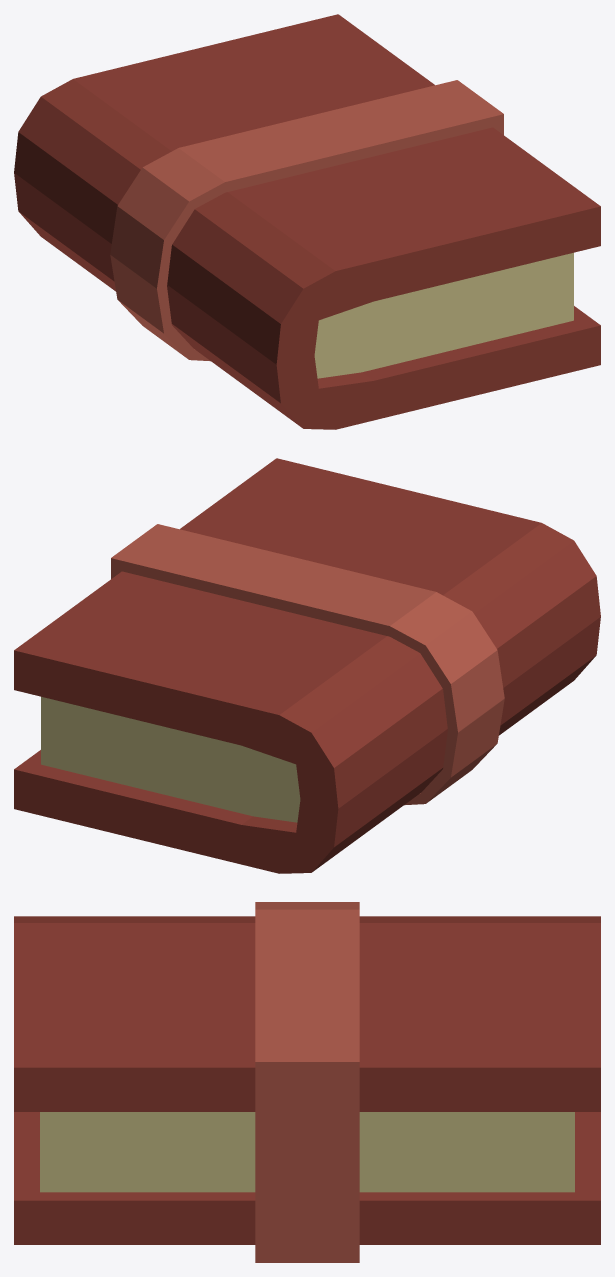
The model's file is Book_5_Red.fbx.
3 views of the same model, one above another, from view 1: azimuth 30°, elevation 25°; view 2: azimuth 150°, elevation 25°; view 3: azimuth 270°, elevation 25° (orthographic). The views are drawn at different scales.
Visible parts, largest first — view 1: Book_5_Red_Part_1, Book_5_Red_Part_3, Book_5_Red_Part_2; view 2: Book_5_Red_Part_1, Book_5_Red_Part_3, Book_5_Red_Part_2; view 3: Book_5_Red_Part_1, Book_5_Red_Part_3, Book_5_Red_Part_2.
Part boxes in pixels (x1,y1,x2,y2): Book_5_Red_Part_1: [14, 14, 600, 429]; Book_5_Red_Part_3: [110, 80, 503, 361]; Book_5_Red_Part_2: [314, 252, 573, 378]; Book_5_Red_Part_1: [14, 458, 600, 873]; Book_5_Red_Part_3: [111, 524, 504, 805]; Book_5_Red_Part_2: [41, 696, 300, 822]; Book_5_Red_Part_1: [14, 916, 600, 1244]; Book_5_Red_Part_3: [255, 902, 359, 1262]; Book_5_Red_Part_2: [40, 1112, 574, 1192].
Size of the model in its own units: 34.35 by 17 by 45.
